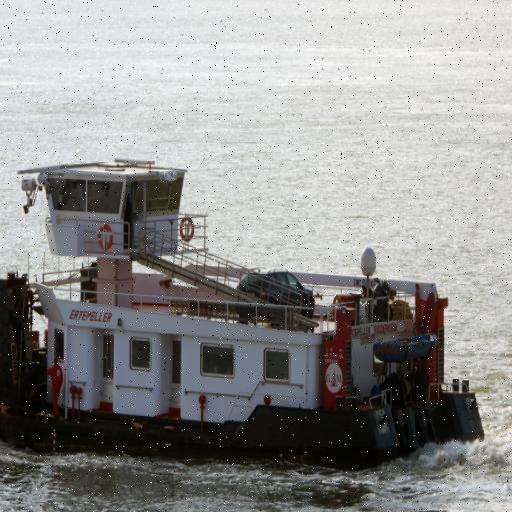tugboat: (1, 152, 489, 485)
